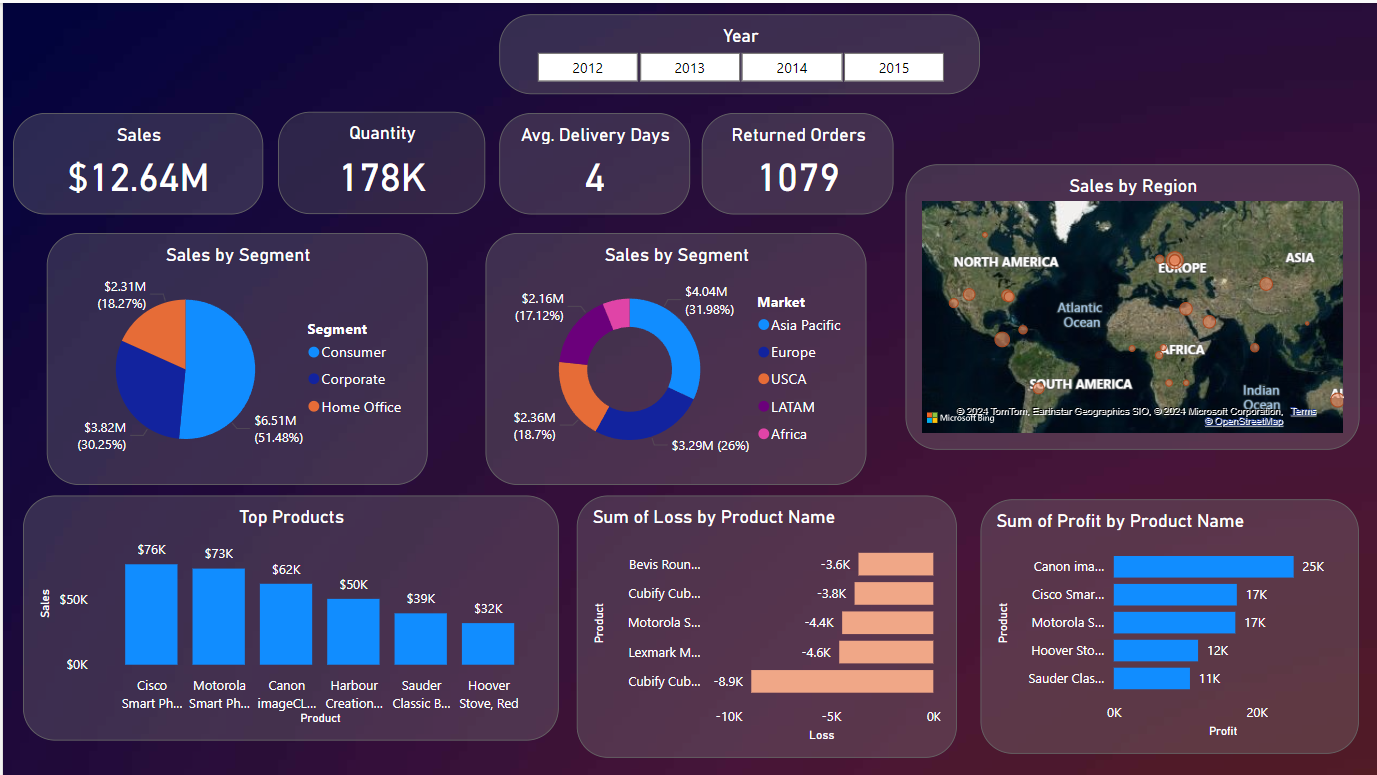

The page's visual inventory and layout, read from the dashboard file:
{"tool":"powerbi","page":{"name":"Page 1","canvas":[1280,720],"ordinal":0},"visuals":[{"type":"card","title":"Sales","fields":{"Values":["Sum(Orders.Sales)"]},"box":[9.7,102.5,232.8,94.1],"z":0},{"type":"card","title":"Quantity","fields":{"Values":["Sum(Orders.Quantity)"]},"box":[255.8,101.3,193,95.3],"z":1000},{"type":"card","title":"Avg. Delivery Days","fields":{"Values":["Avg(Orders.Delivery Days)"]},"box":[462.1,102.5,177.3,94.1],"z":2000},{"type":"slicer","title":"Year","fields":{"Values":["Orders.Year"]},"box":[462.1,10.9,447.6,74.8],"z":3000},{"type":"card","title":"Returned Orders","fields":{"Values":["Sum(Returns.Return Orders)"]},"box":[650.3,102.5,178.6,94.1],"z":4000},{"type":"map","title":"Sales by Region","fields":{"Category":["Orders.Region"],"Size":["Sum(Orders.Sales)"]},"box":[839.7,149.6,422.3,265.4],"z":5000},{"type":"barChart","fields":{"Category":["Orders.Product Name"],"Y":["Sum(Orders.Profit)"]},"box":[909.7,462.1,352.3,236.5],"z":6000},{"type":"barChart","title":"Sum of Loss by Product Name","fields":{"Category":["Orders.Product Name"],"Y":["Sum(Orders.Profit)"]},"box":[533.2,458.4,353.5,243.7],"z":7000},{"type":"pieChart","title":"Sales by Segment","fields":{"Category":["Orders.Segment"],"Y":["Sum(Orders.Sales)"]},"box":[41,213.5,354.7,234],"z":8000},{"type":"donutChart","title":"Sales by Segment","fields":{"Category":["Orders.Market"],"Y":["Sum(Orders.Sales)"]},"box":[448.8,213.5,354.7,234],"z":9000},{"type":"columnChart","title":"Top Products","fields":{"Category":["Orders.Product Name"],"Y":["Sum(Orders.Sales)"]},"box":[18.1,458.4,498.3,228],"z":10000}]}

Visuals, with their boxes in screenshot pixels (x1, y1, x2, y2), scaled from the page's 1280x720 canvas onto the 1377x775 screenshot:
"Sales" card: select_region(10, 110, 261, 212)
"Quantity" card: select_region(275, 109, 483, 212)
"Avg. Delivery Days" card: select_region(497, 110, 688, 212)
"Year" slicer: select_region(497, 12, 979, 92)
"Returned Orders" card: select_region(700, 110, 892, 212)
"Sales by Region" map: select_region(903, 161, 1358, 447)
barChart - Orders.Product Name x Sum(Orders.Profit): select_region(979, 497, 1358, 752)
"Sum of Loss by Product Name" barChart: select_region(574, 493, 954, 756)
"Sales by Segment" pieChart: select_region(44, 230, 426, 482)
"Sales by Segment" donutChart: select_region(483, 230, 864, 482)
"Top Products" columnChart: select_region(19, 493, 556, 739)
